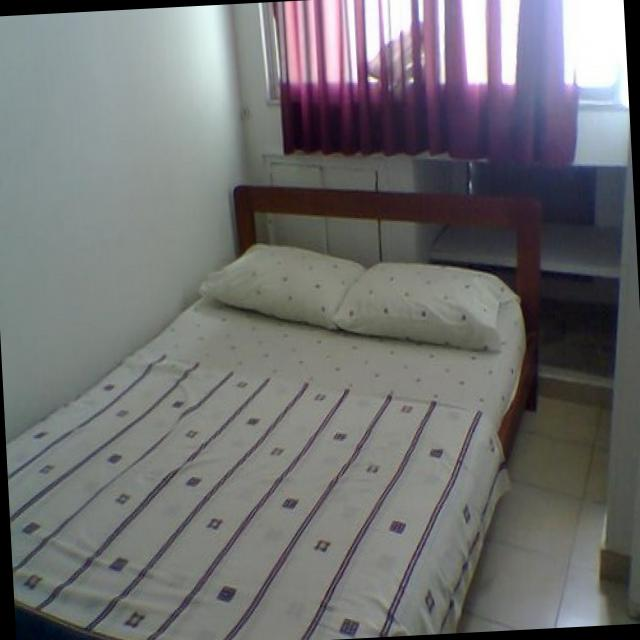bed -occluded-: (8, 184, 540, 640)
curtain crop: (275, 0, 573, 163)
wall clock: (0, 5, 236, 433)
